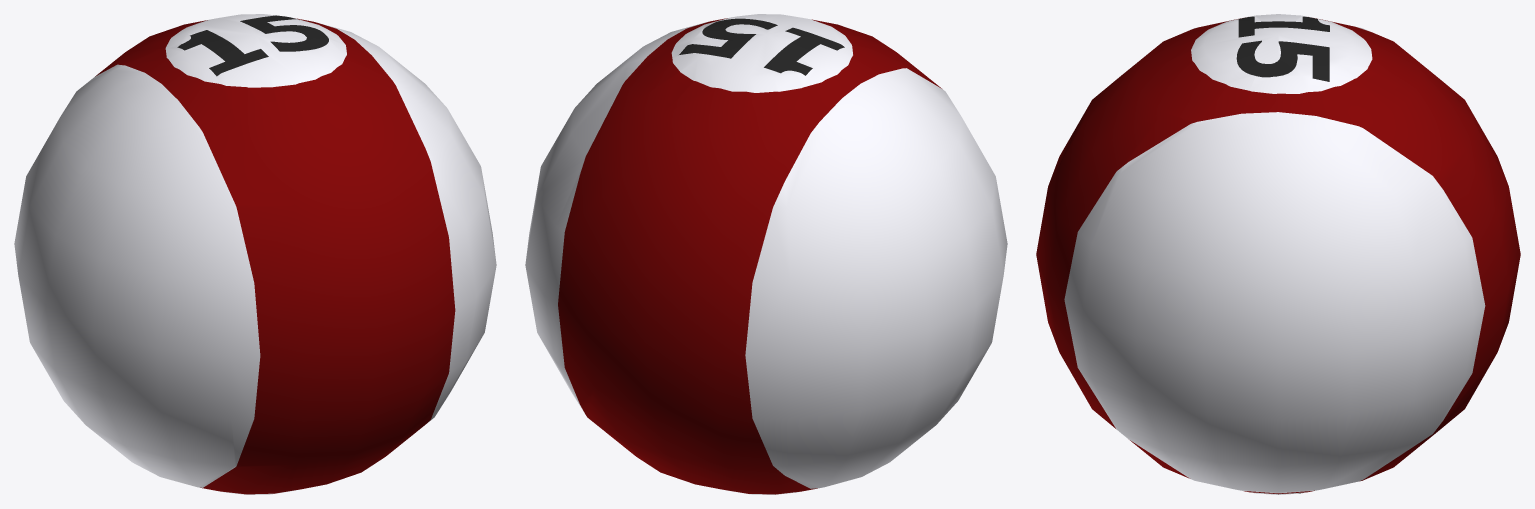
The model's file is 15ball.dae.
3 views of the same model, side by side, from view 1: azimuth 30°, elevation 25°; view 2: azimuth 150°, elevation 25°; view 3: azimuth 270°, elevation 25° (orthographic).
Visible parts, largest first — view 1: Billiard_Ball__15_Maroon_Striped (×6); view 2: Billiard_Ball__15_Maroon_Striped (×6); view 3: Billiard_Ball__15_Maroon_Striped (×5).
Boxes of the visible parts, x1,y1,x2,y2 form: Billiard_Ball__15_Maroon_Striped (×6): (14, 14, 496, 494); Billiard_Ball__15_Maroon_Striped (×6): (525, 14, 1007, 494); Billiard_Ball__15_Maroon_Striped (×5): (1036, 14, 1520, 494).
Bounding box in the file's own units: 1.58 × 1.58 × 1.58.
